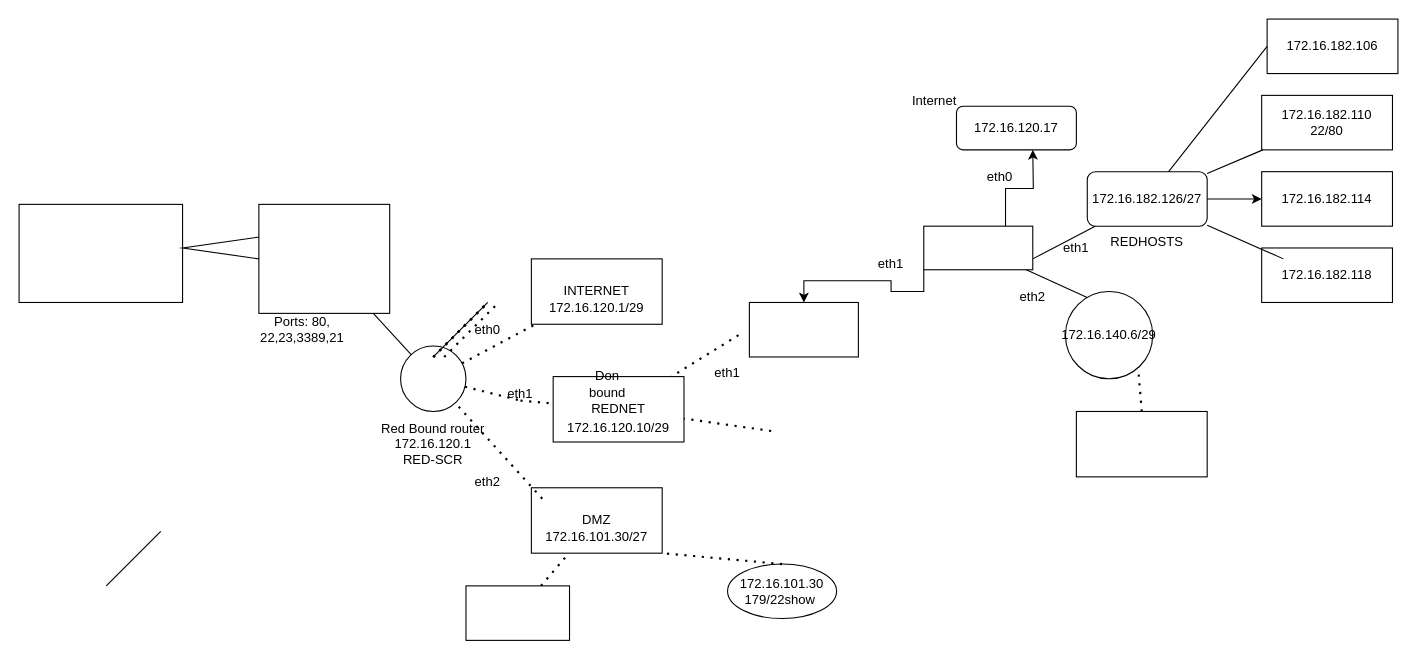
The diagram is 1417 pixels wide and 659 high, and some of its shapes have lost their labels. Here are the shapes that lost their labels. From the top down, the centre of each, then its label:
the point at 100,252: Student@blueinternethost
the point at 324,258: Red-int-host 10.50.189.76 net2_student8 password8 eth0:10.0.0.33/27
the point at 978,247: RED-POP 172.16.120.17
the point at 803,329: 172.16.120.9 RED-IPS
the point at 1141,443: 172.16.140.5 REDPOP2
the point at 517,612: 172.16.101.2 port:22 red-dmz-host-1
